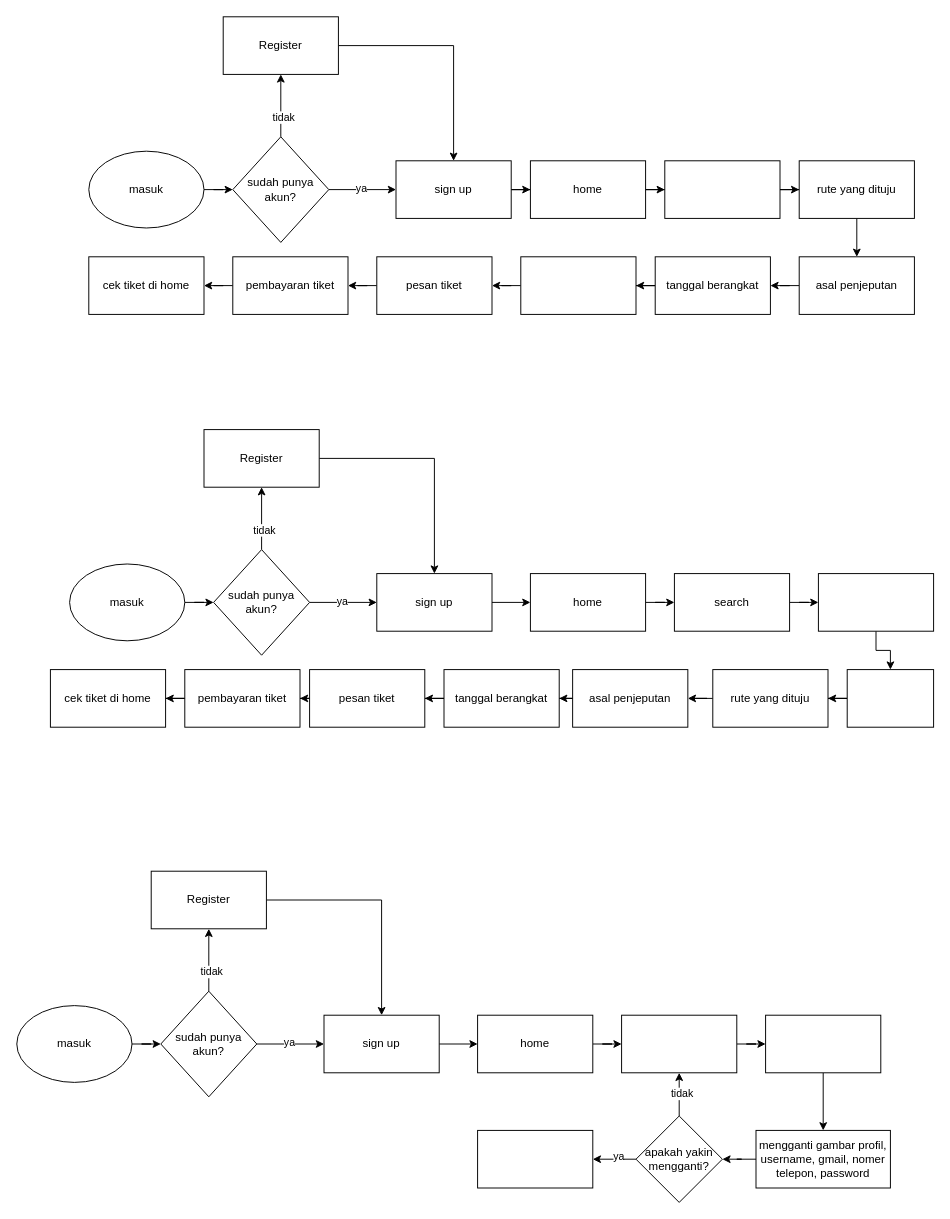
The diagram is 950 pixels wide and 1219 high, and some of its shapes have lost their labels. The box of each missing label's shape, as (x1, y1, x2, y2) in pixels:
bus terdekat di peta: (817, 573, 934, 631)
edit profil: (765, 1014, 881, 1073)
konfirmasi update: (477, 1129, 593, 1188)
mencari bus sesuai kriteria: (520, 256, 636, 314)
mencari tiket: (664, 160, 780, 218)
pesan bus: (846, 669, 934, 727)
profil: (621, 1014, 737, 1073)
